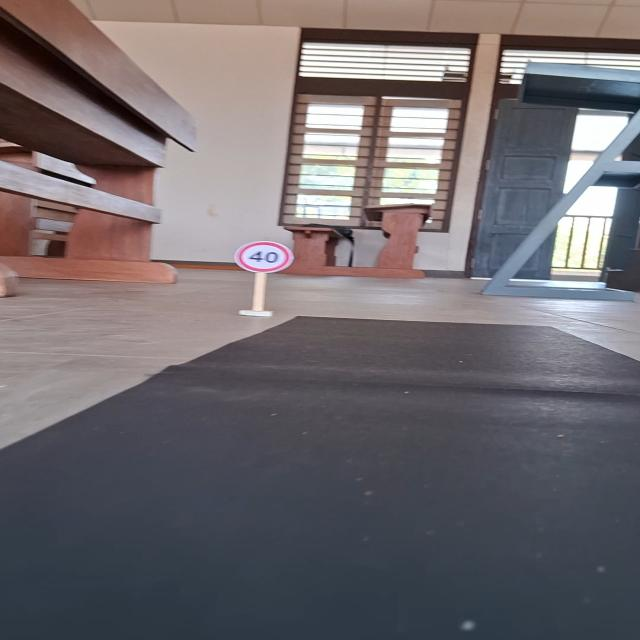Speed40: (234, 241, 296, 274)
